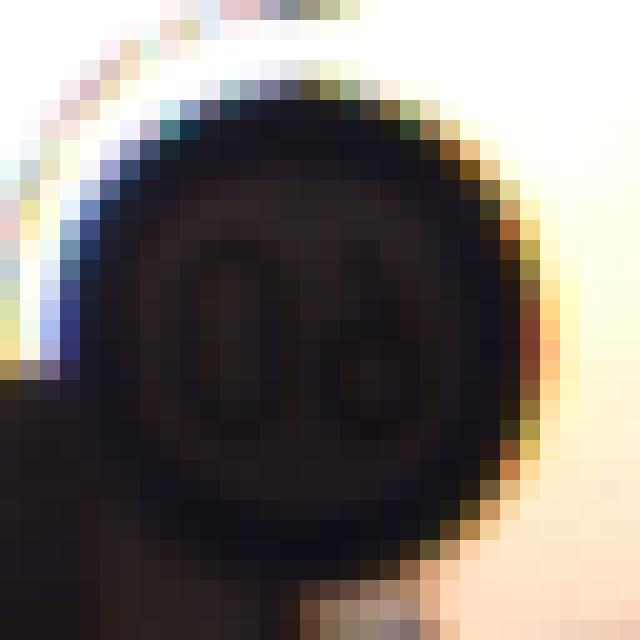SPEED-LIMIT-60: (43, 70, 562, 617)
